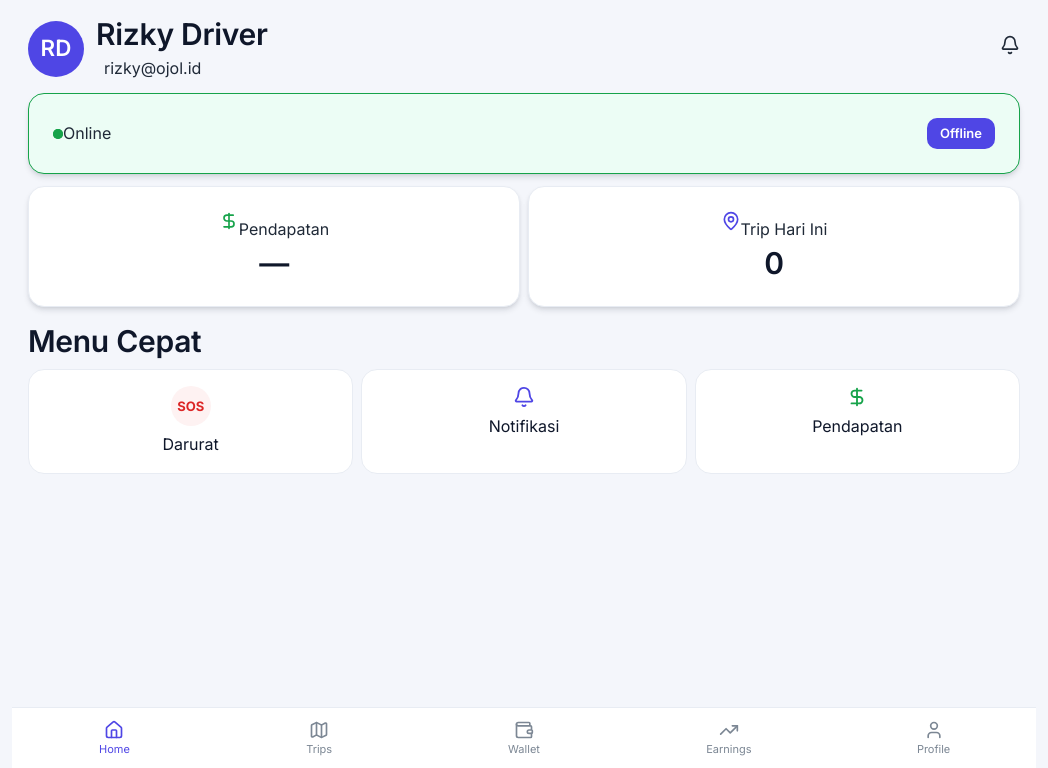
Test case: DriverApp › navigates to profile tab
Expected: the heading "Rizky Driver" is shown, x1=96 y1=16 x2=268 y2=54
Click the button "Profile": [934, 738] box x1=831 y1=712 x2=1036 y2=764
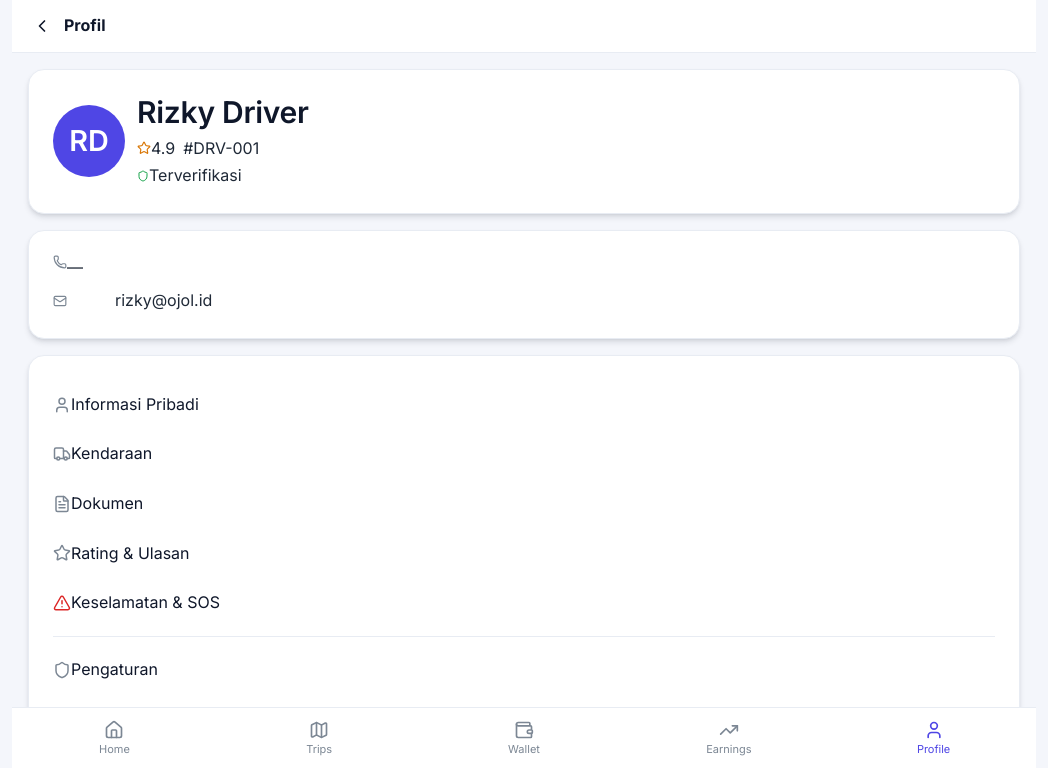
Result: the heading "Profil" is shown at x1=64 y1=15 x2=106 y2=35
